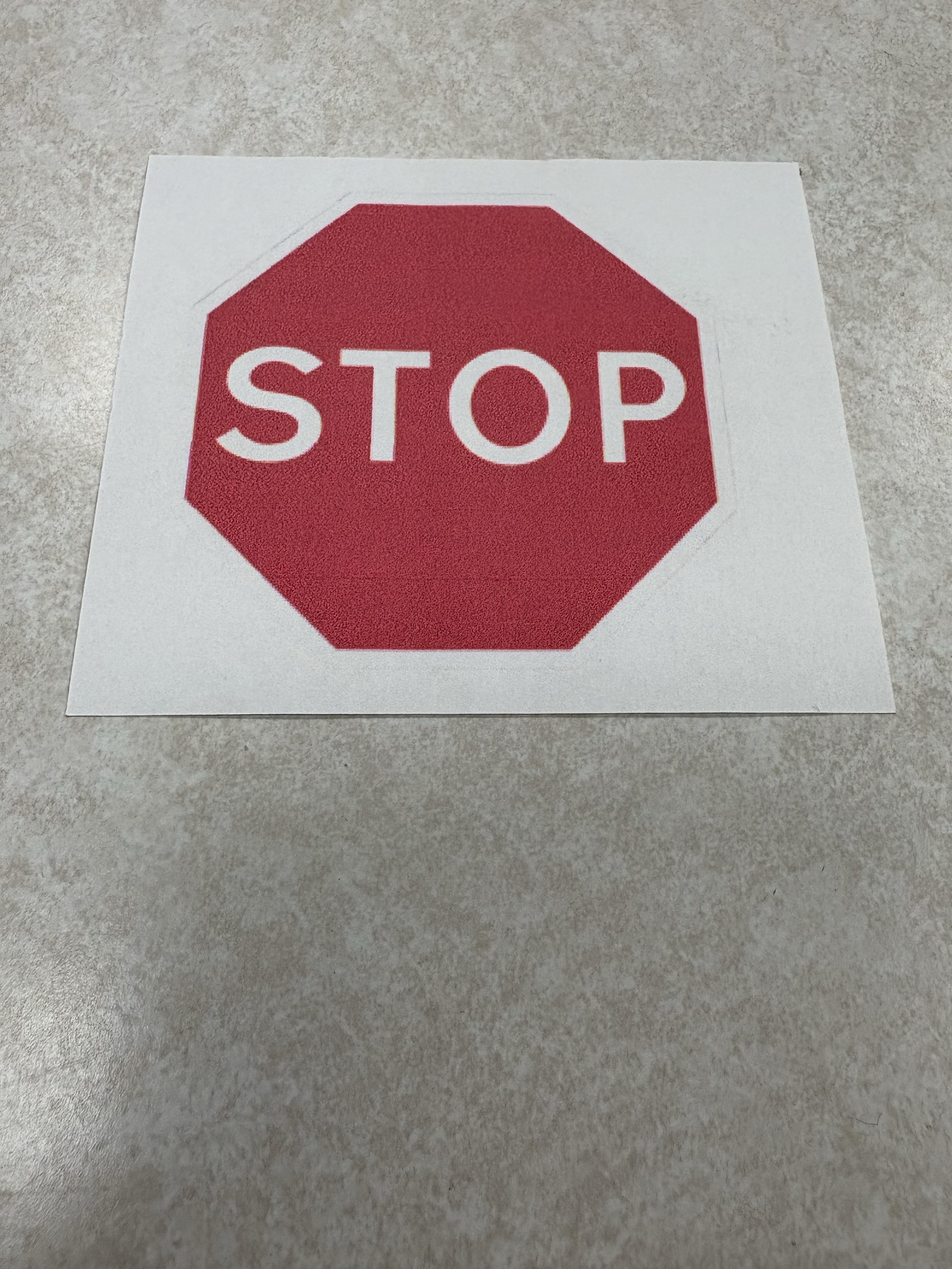Stop: (48, 206, 670, 950)
